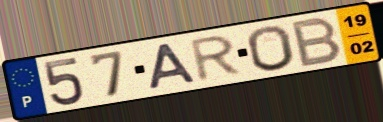5: (40, 55, 86, 107)
7: (88, 49, 127, 99)
A: (147, 41, 199, 92)
B: (290, 14, 344, 69)
O: (245, 24, 298, 74)
R: (189, 32, 245, 84)
